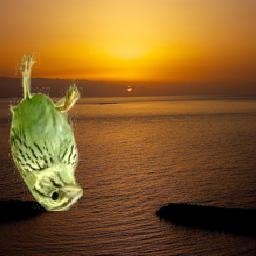Sparrow: (9, 53, 84, 212)
